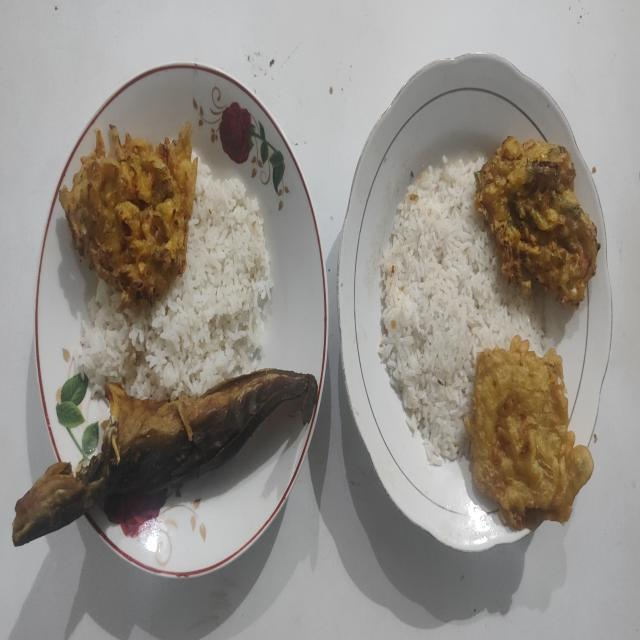nasi_putih: (378, 160, 544, 464), (75, 161, 274, 400)
